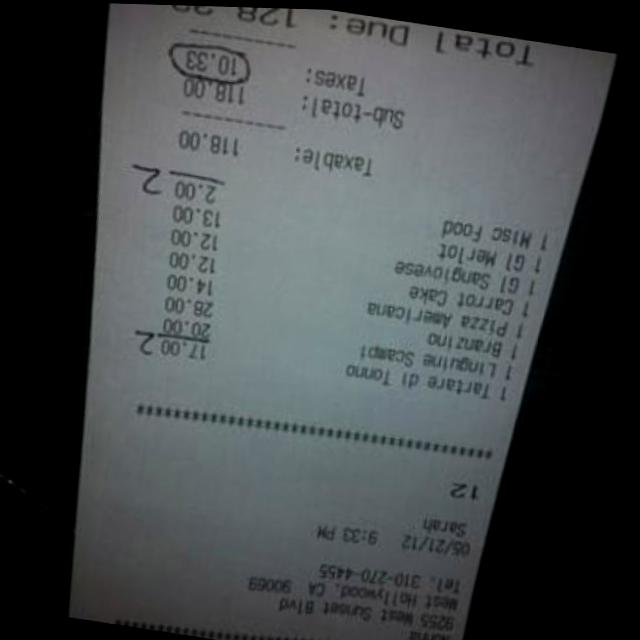Paper: (10, 1, 619, 640)
